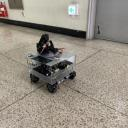cart: (26, 48, 78, 92)
